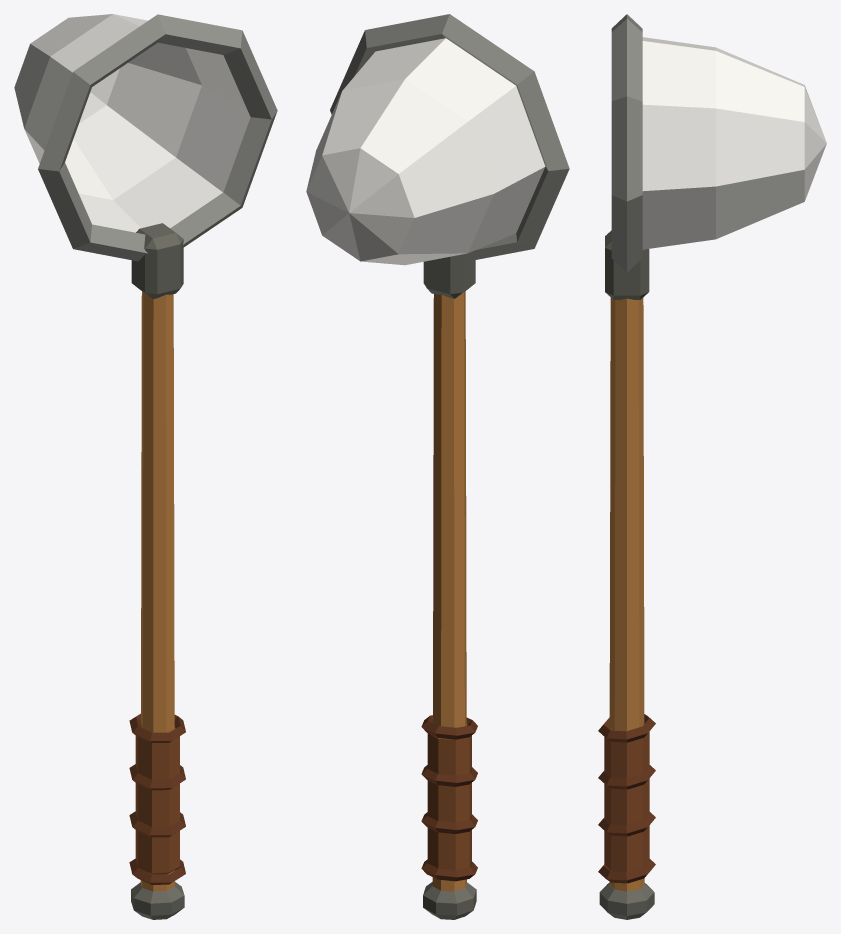
Rendered from StoneBugNet.fbx.
3 renders of one model, left to right at view 1: azimuth 30°, elevation 25°; view 2: azimuth 150°, elevation 25°; view 3: azimuth 270°, elevation 25°, orthographic.
Visible parts, largest first — view 1: StoneBugNet; view 2: StoneBugNet; view 3: StoneBugNet.
Part boxes in pixels (bbox=[...]): StoneBugNet: bbox=[14, 14, 277, 919]; StoneBugNet: bbox=[306, 14, 569, 919]; StoneBugNet: bbox=[598, 14, 826, 919].
Bounding box in the file's own units: 1.24 × 4.44 × 1.03.
1 material, 1 textured.
